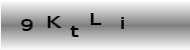9: (20, 17, 33, 32)
K: (45, 15, 61, 28)
L: (89, 12, 103, 26)
i: (120, 15, 125, 30)
t: (69, 25, 81, 39)
